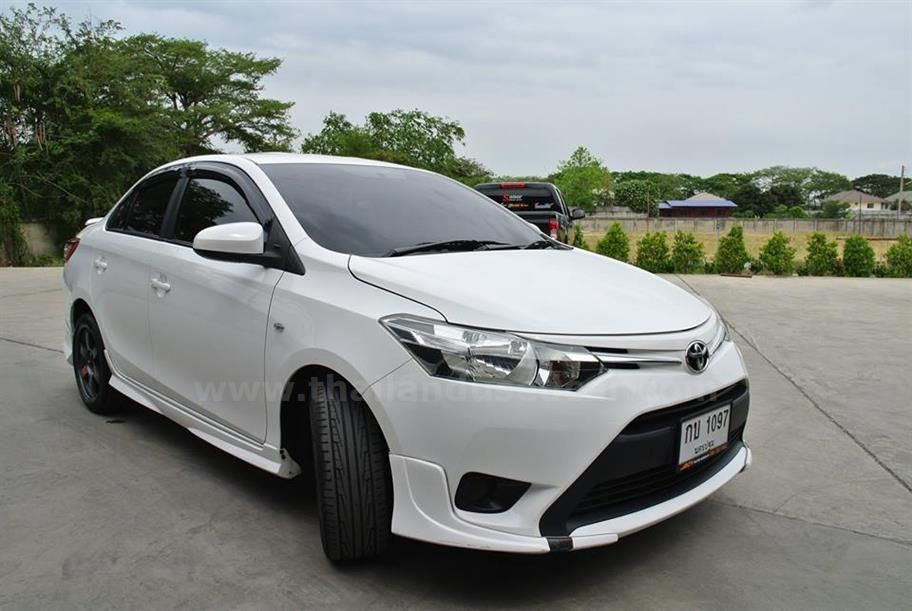sedan: (58, 148, 757, 574)
